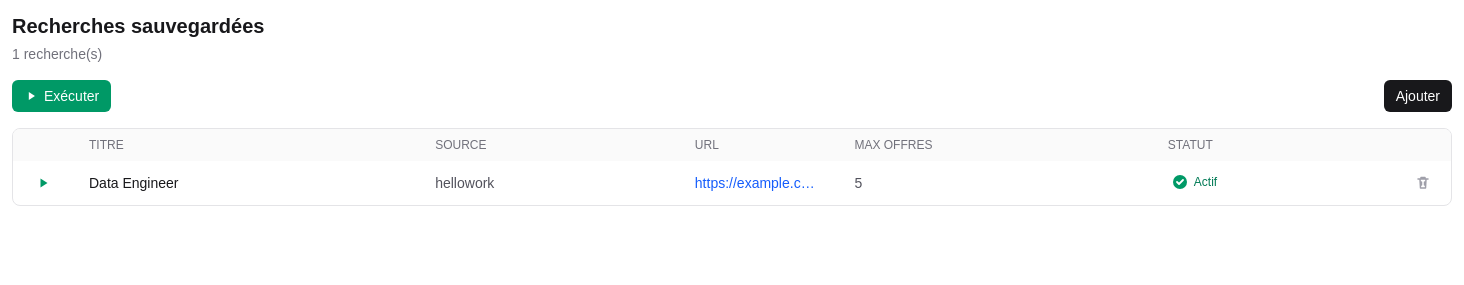
Test: SearchSettingsBrowser › affiche une erreur si le lancement unitaire échoue
The image size is (1464, 285).
Expected: the text "Data Engineer" is shown, [73, 161, 419, 205]
Click the button named "Lancer la recherche « Data Engineer »". click: x=43, y=183
box: [29, 169, 57, 197]
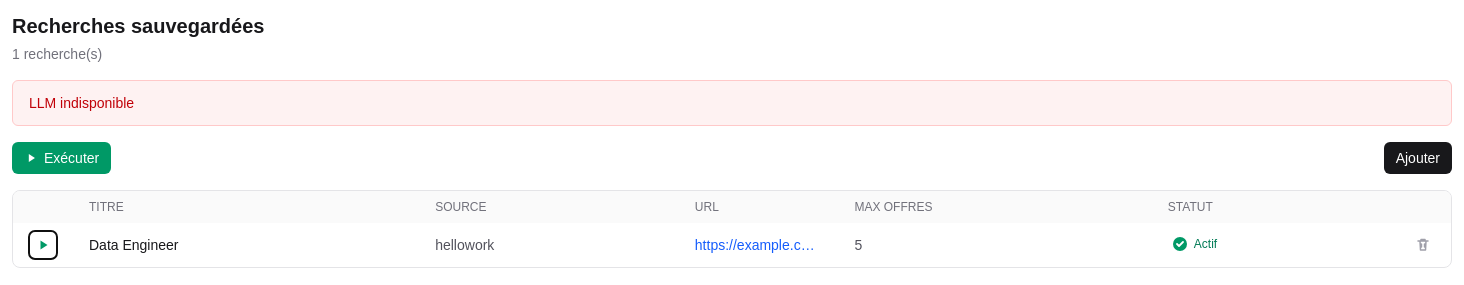
Expected: the text "LLM indisponible" is shown, [12, 80, 1452, 126]
